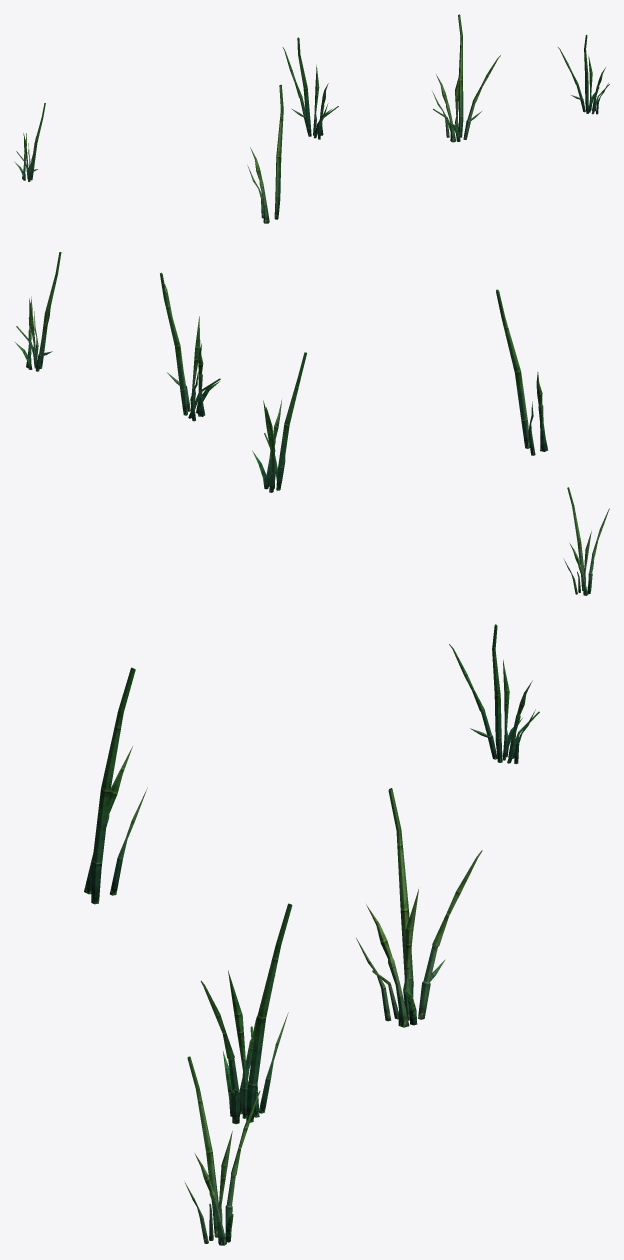
Rendered from Area_12_44.fbx.
The picture shows the model from 3 angles, top to bottom: view 1: azimuth 30°, elevation 25°; view 2: azimuth 150°, elevation 25°; view 3: azimuth 270°, elevation 25°; orthographic projection. The views are drawn at different scales.
Parts seen in each view (by area): view 1: Area_12_44; view 2: Area_12_44; view 3: Area_12_44.
Part boxes in pixels (<box>): Area_12_44: <box>14,14,609,223</box>; Area_12_44: <box>15,252,609,595</box>; Area_12_44: <box>84,624,539,1245</box>.
Size of the model in its own units: 8255 by 1923 by 3151.
